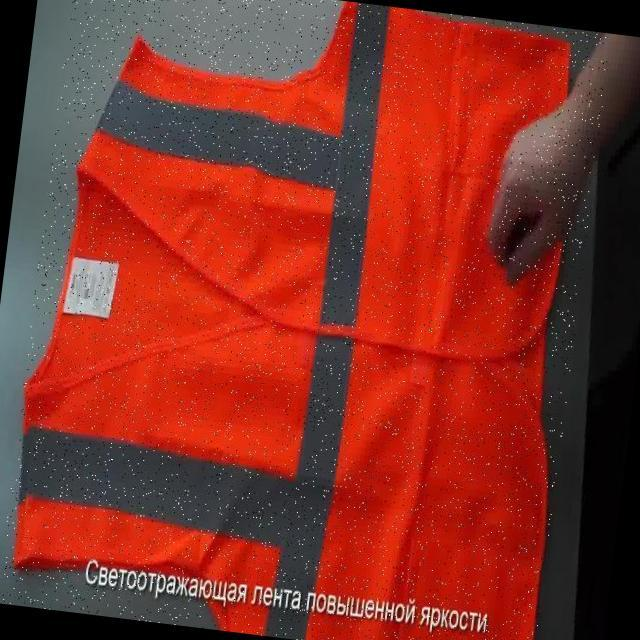Safety Vest: (0, 0, 611, 640)
bare-arms: (485, 96, 605, 295)
